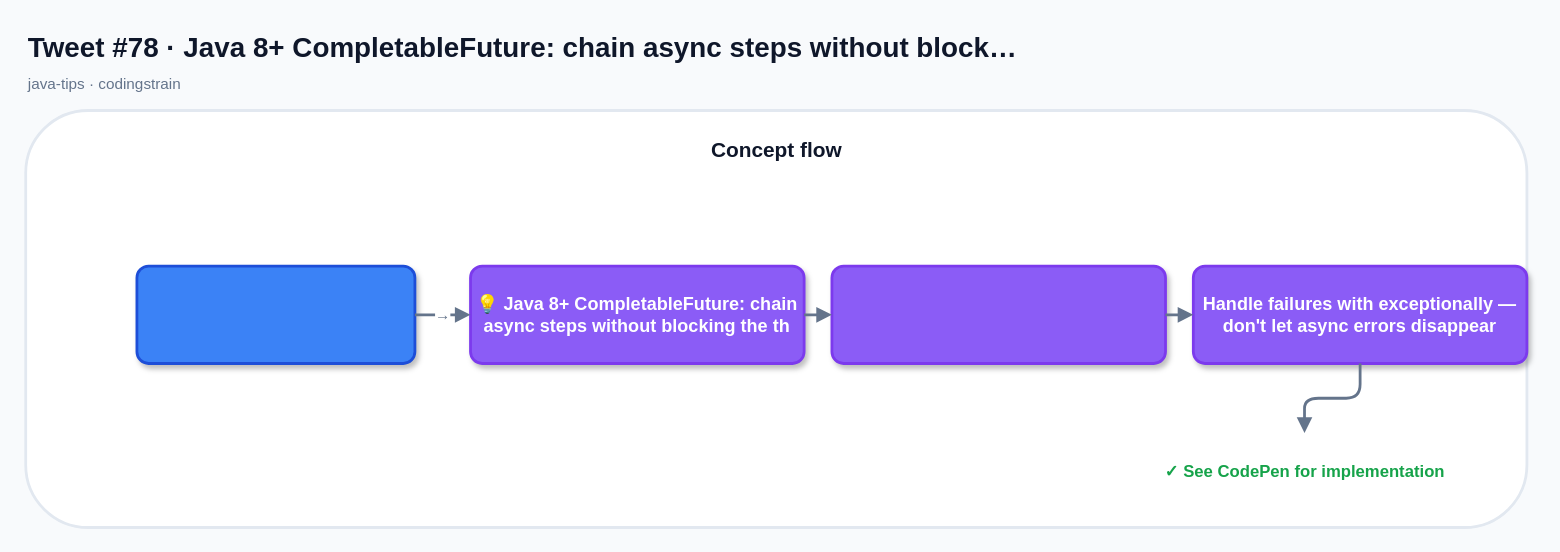
The diagram is 1560 pixels wide and 552 high, and some of its shapes have lost their labels. Each missing label, with the centre of its shape:
Chain: supplyAsync → thenApply → thenCompose → thenAccept (fetch user,: the point at 999,316
Problem / context: the point at 276,316
